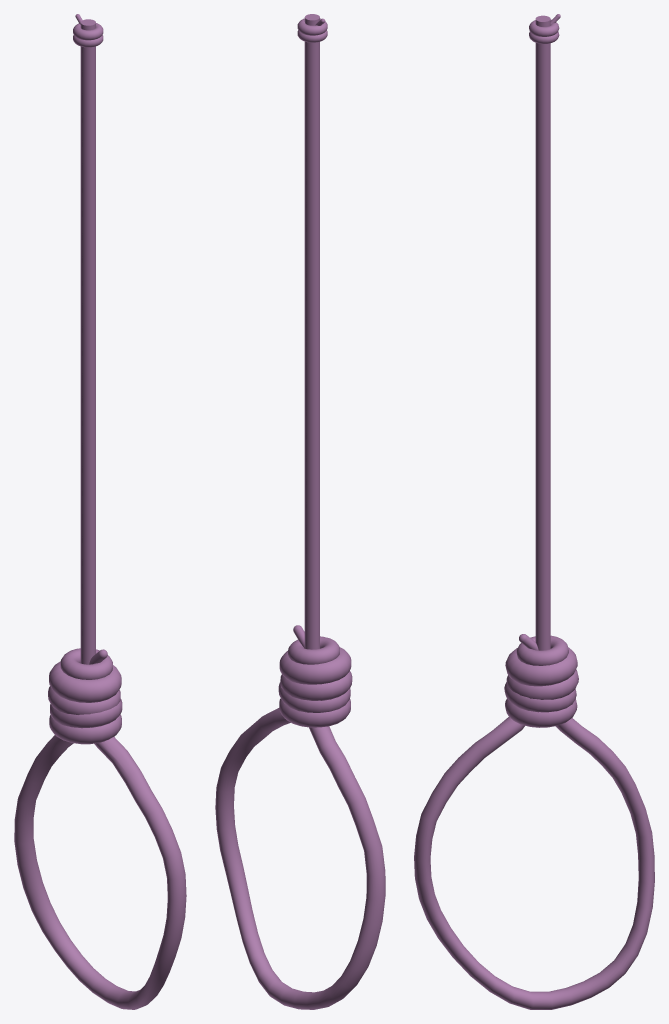
File: Noose.fbx
3 renders of one model, left to right at view 1: azimuth 30°, elevation 25°; view 2: azimuth 210°, elevation 25°; view 3: azimuth 270°, elevation 25°, orthographic.
Parts seen in each view (by area): view 1: Tip, Body, Middle3, Top; view 2: Tip, Body, Middle3, Top; view 3: Tip, Body, Middle3, Top.
Boxes of the visible parts, x1,y1,x2,y2 form: Tip: [14, 735, 186, 1009]; Body: [80, 19, 95, 664]; Middle3: [48, 648, 122, 744]; Top: [73, 14, 103, 47]; Tip: [215, 708, 385, 1009]; Body: [304, 14, 319, 649]; Middle3: [278, 625, 352, 727]; Top: [297, 18, 327, 42]; Tip: [414, 717, 654, 1009]; Body: [535, 15, 550, 650]; Middle3: [504, 634, 578, 727]; Top: [529, 14, 560, 43].
Size of the model in its own units: 9.19 by 115 by 25.7.
